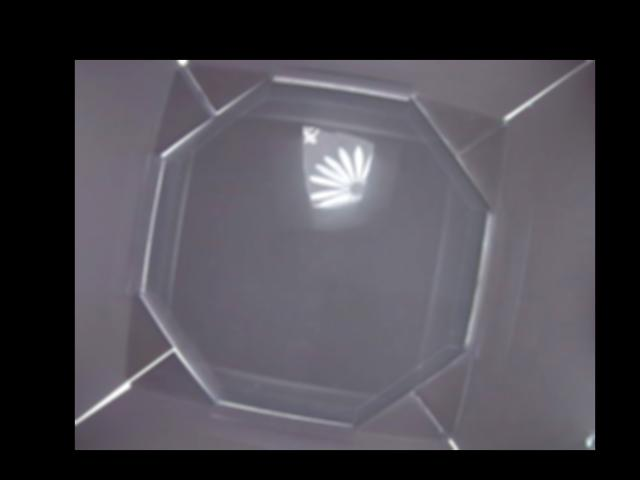China: (302, 126, 374, 207)
